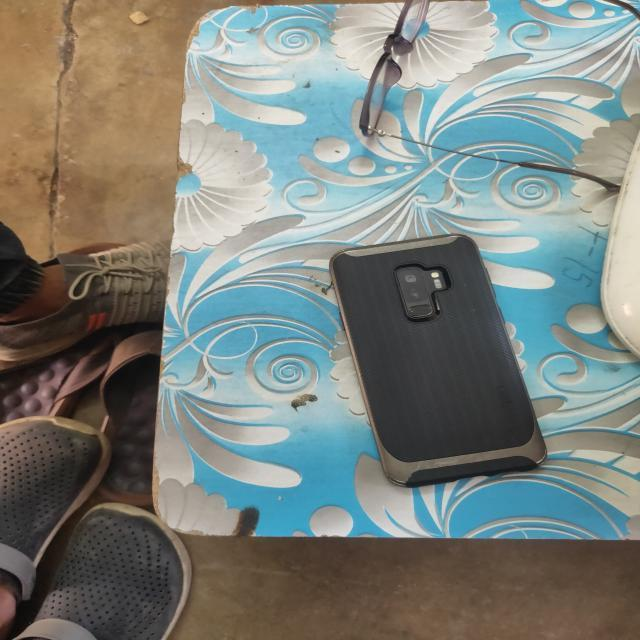Phone: (331, 236, 552, 494)
